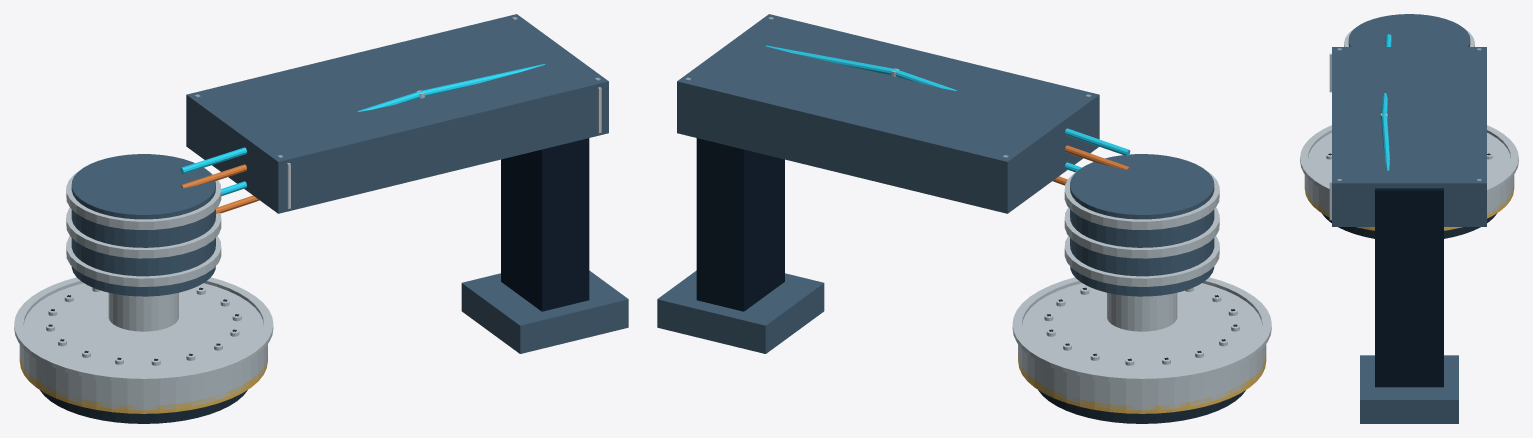
File: 05_L73_PrecisionWaferCarrierHead.fbx
3 views of the same model, side by side, from view 1: azimuth 30°, elevation 25°; view 2: azimuth 150°, elevation 25°; view 3: azimuth 270°, elevation 25° (orthographic). The views are drawn at different scales.
Parts seen in each view (by area): view 1: PrecisionWaferCarrierHead, PrecisionWaferCarrierHead_Part_0014, PrecisionWaferCarrierHead_Part_0009, PrecisionWaferCarrierHead_Part_0015, PrecisionWaferCarrierHead_Part_0013, PrecisionWaferCarrierHead_Part_0012, PrecisionWaferCarrierHead_Part_0010, PrecisionWaferCarrierHead_Part_0011, PrecisionWaferCarrierHead_Part_0018, PrecisionWaferCarrierHead_Part_0016; view 2: PrecisionWaferCarrierHead, PrecisionWaferCarrierHead_Part_0014, PrecisionWaferCarrierHead_Part_0009, PrecisionWaferCarrierHead_Part_0015, PrecisionWaferCarrierHead_Part_0013, PrecisionWaferCarrierHead_Part_0012, PrecisionWaferCarrierHead_Part_0011, PrecisionWaferCarrierHead_Part_0010, PrecisionWaferCarrierHead_Part_0018, PrecisionWaferCarrierHead_Part_0016; view 3: PrecisionWaferCarrierHead, PrecisionWaferCarrierHead_Part_0009, PrecisionWaferCarrierHead_Part_0014, PrecisionWaferCarrierHead_Part_0015, PrecisionWaferCarrierHead_Part_0016, PrecisionWaferCarrierHead_Part_0018.
Boxes of the visible parts, x1=… form: PrecisionWaferCarrierHead: x1=180, y1=14, x2=628, y2=353; PrecisionWaferCarrierHead_Part_0014: x1=19, y1=283, x2=267, y2=410; PrecisionWaferCarrierHead_Part_0009: x1=71, y1=154, x2=215, y2=296; PrecisionWaferCarrierHead_Part_0015: x1=14, y1=277, x2=273, y2=383; PrecisionWaferCarrierHead_Part_0013: x1=108, y1=292, x2=178, y2=331; PrecisionWaferCarrierHead_Part_0012: x1=66, y1=171, x2=221, y2=229; PrecisionWaferCarrierHead_Part_0010: x1=66, y1=236, x2=221, y2=286; PrecisionWaferCarrierHead_Part_0011: x1=66, y1=208, x2=221, y2=258; PrecisionWaferCarrierHead_Part_0018: x1=19, y1=354, x2=267, y2=413; PrecisionWaferCarrierHead_Part_0016: x1=40, y1=390, x2=247, y2=423; PrecisionWaferCarrierHead: x1=657, y1=14, x2=1130, y2=353; PrecisionWaferCarrierHead_Part_0014: x1=1018, y1=283, x2=1266, y2=410; PrecisionWaferCarrierHead_Part_0009: x1=1070, y1=154, x2=1214, y2=296; PrecisionWaferCarrierHead_Part_0015: x1=1012, y1=277, x2=1271, y2=383; PrecisionWaferCarrierHead_Part_0013: x1=1107, y1=292, x2=1177, y2=331; PrecisionWaferCarrierHead_Part_0012: x1=1064, y1=171, x2=1219, y2=229; PrecisionWaferCarrierHead_Part_0011: x1=1064, y1=207, x2=1219, y2=258; PrecisionWaferCarrierHead_Part_0010: x1=1064, y1=236, x2=1219, y2=286; PrecisionWaferCarrierHead_Part_0018: x1=1018, y1=354, x2=1266, y2=413; PrecisionWaferCarrierHead_Part_0016: x1=1038, y1=390, x2=1245, y2=423; PrecisionWaferCarrierHead: x1=1329, y1=34, x2=1486, y2=423; PrecisionWaferCarrierHead_Part_0009: x1=1348, y1=14, x2=1470, y2=46; PrecisionWaferCarrierHead_Part_0014: x1=1304, y1=133, x2=1514, y2=227; PrecisionWaferCarrierHead_Part_0015: x1=1300, y1=125, x2=1518, y2=193; PrecisionWaferCarrierHead_Part_0016: x1=1321, y1=213, x2=1497, y2=238; PrecisionWaferCarrierHead_Part_0018: x1=1304, y1=184, x2=1514, y2=230.
Size of the model in its own units: 481 by 221 by 190.
